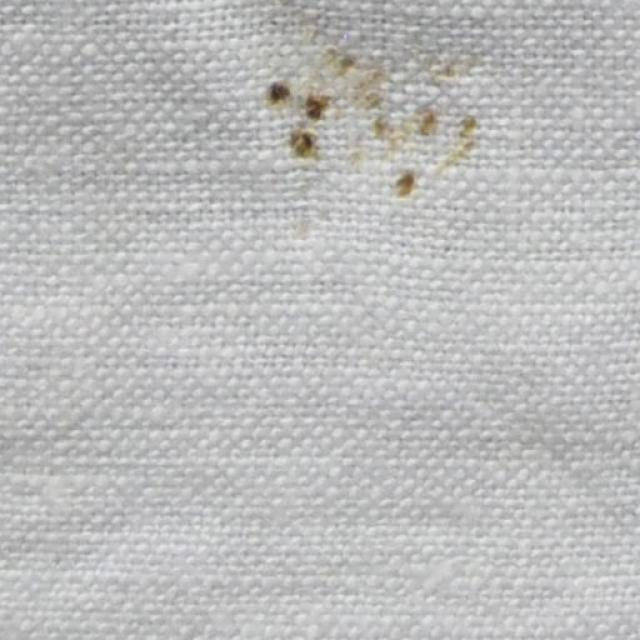Stain: (250, 0, 488, 228)
